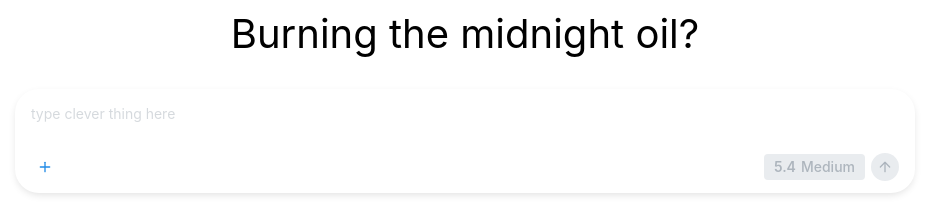
ComposerPanel › renders skill autocomplete suggestions
Type "$rev" into the text box named "message composer" at (465, 124), box [29,103,901,145]
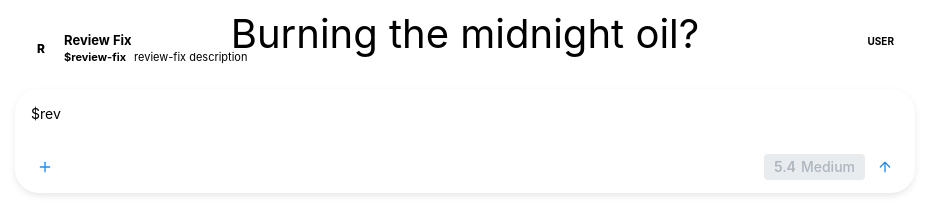
Expected: the option "R Review Fix user $review-fix review-fix description" is shown, [21,25,909,73]
